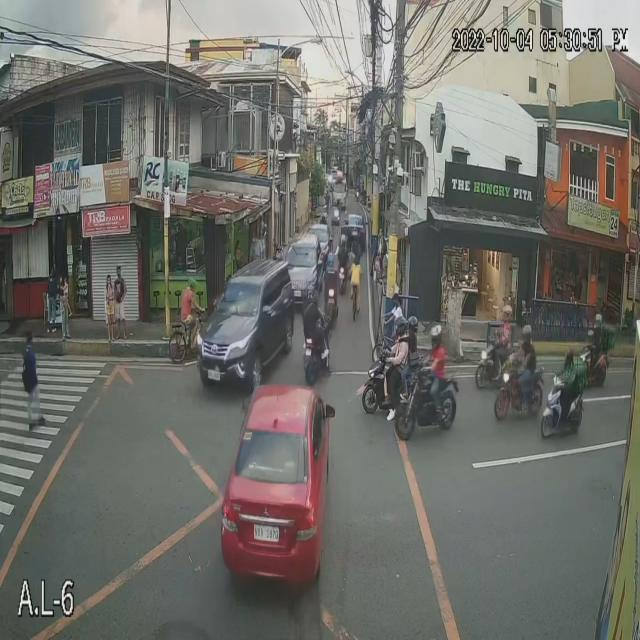full: (428, 323, 444, 349), (394, 316, 408, 337), (501, 303, 512, 325), (592, 309, 602, 331)
half: (521, 323, 532, 347), (563, 346, 575, 368), (407, 316, 420, 336)
